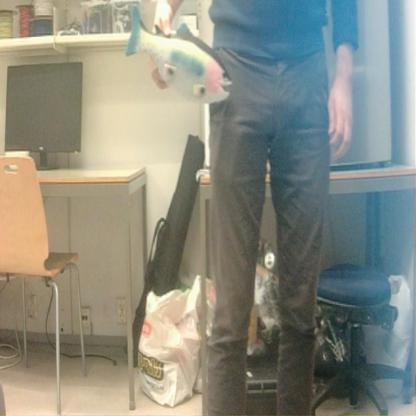rubberfish: (121, 4, 233, 108)
